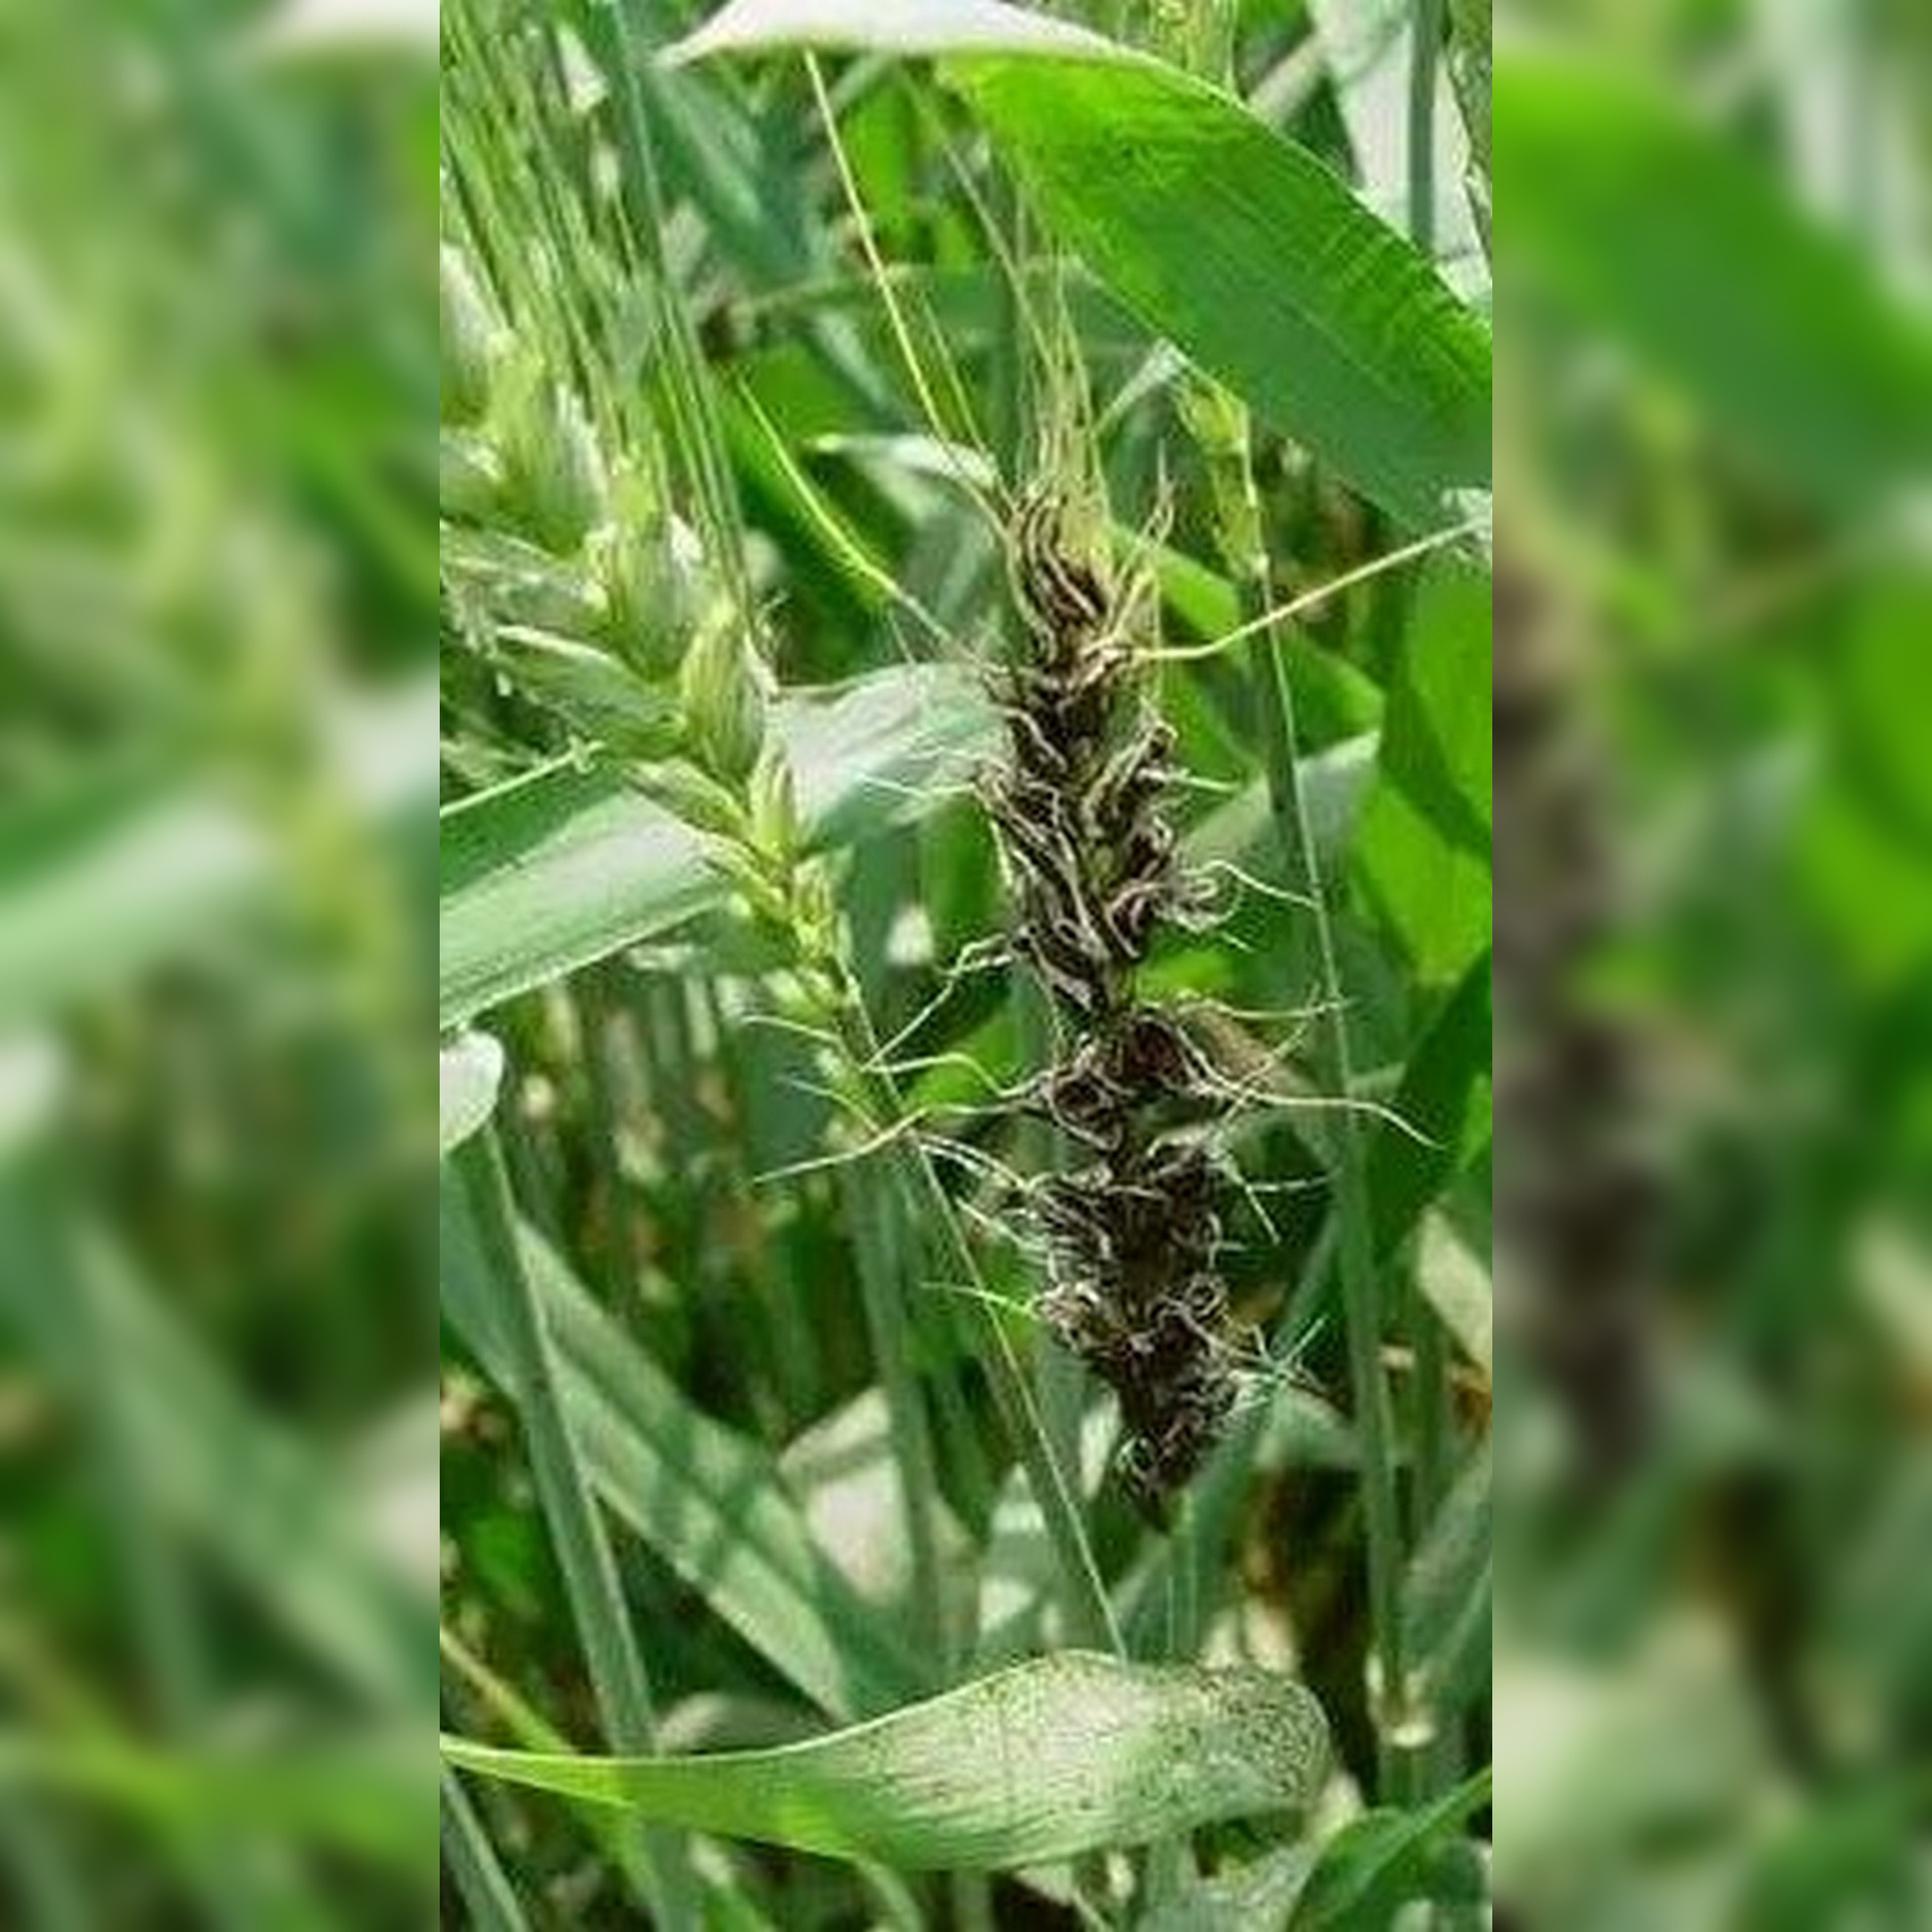Wheat Loose Smut: (950, 437, 1299, 1470)
